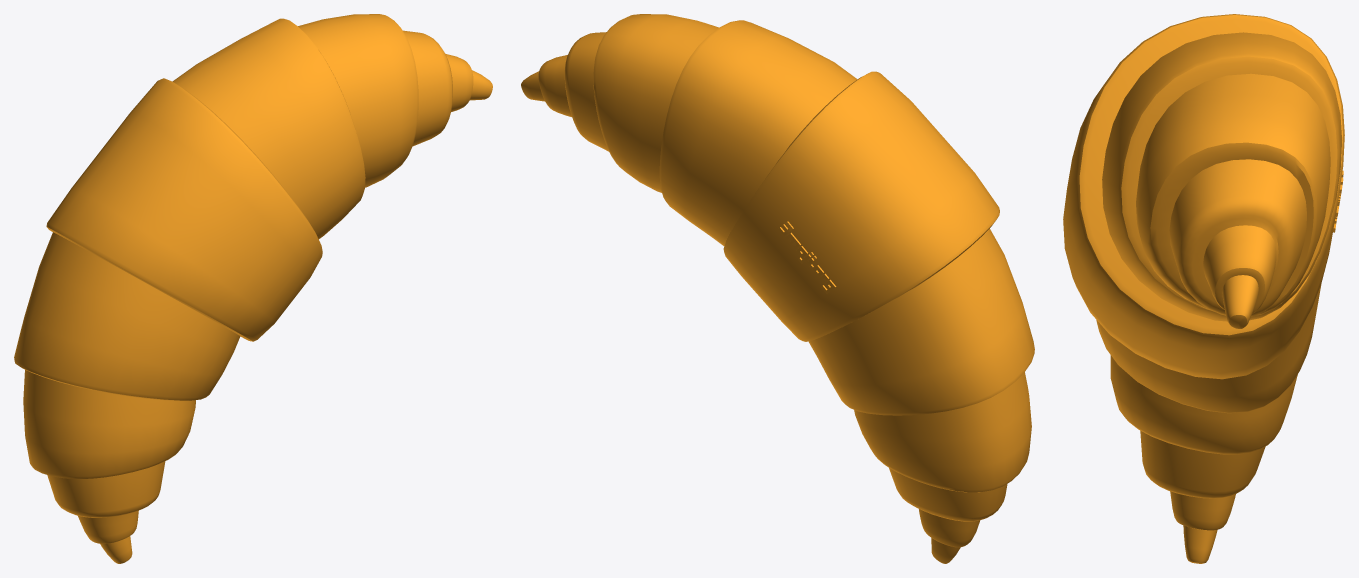
File: croissant.fbx
The picture shows the model from 3 angles, left to right: view 1: azimuth 30°, elevation 25°; view 2: azimuth 150°, elevation 25°; view 3: azimuth 270°, elevation 25°; orthographic projection. The views are drawn at different scales.
Parts seen in each view (by area): view 1: Cylinder; view 2: Cylinder; view 3: Cylinder.
Boxes of the visible parts, x1,y1,x2,y2 form: Cylinder: (14,14,492,563); Cylinder: (521,14,1034,563); Cylinder: (1063,14,1344,563).
Size of the model in its own units: 240 by 232 by 93.06.
1 material, 1 textured.
